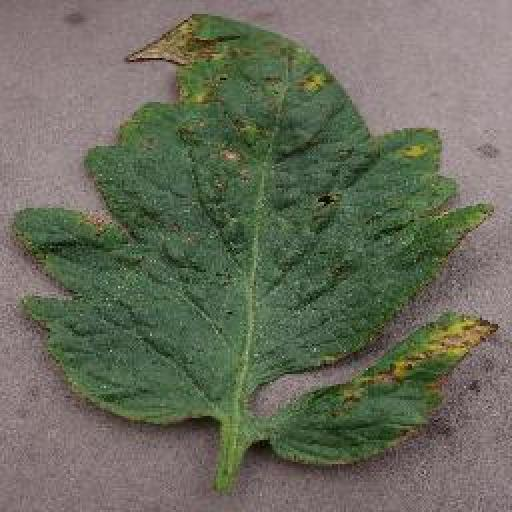Bacterial Spot: (9, 12, 503, 472)
